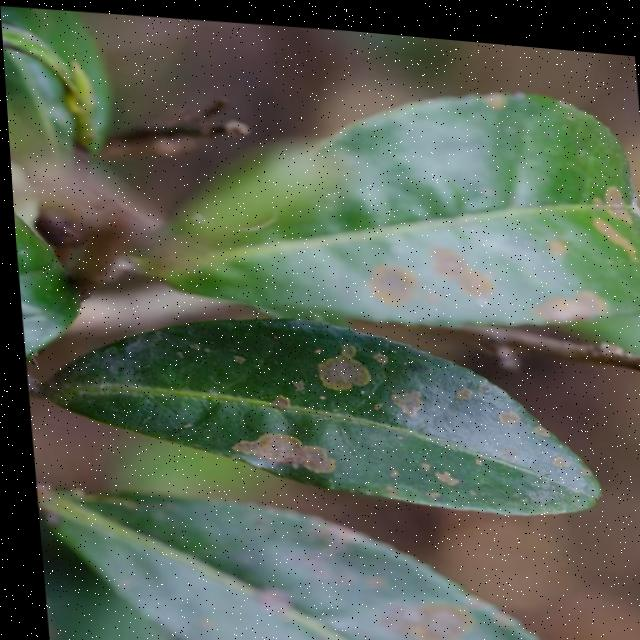Tea algae leaf spot: (104, 298, 544, 502)
